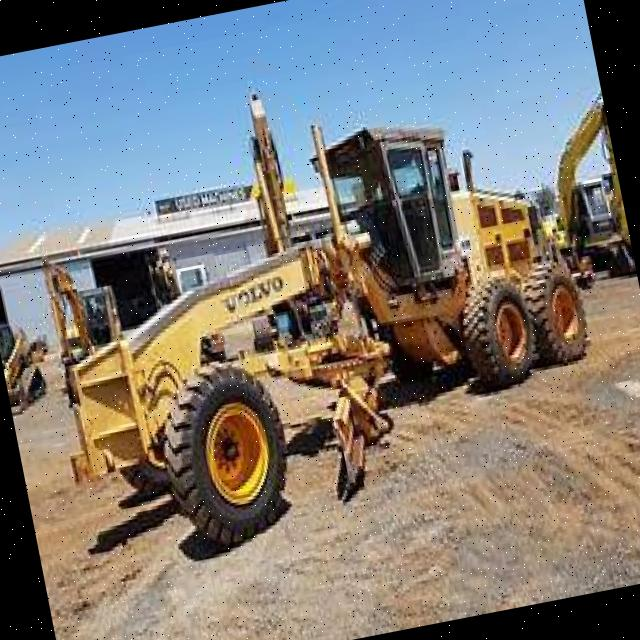Grader: (13, 73, 626, 573)
